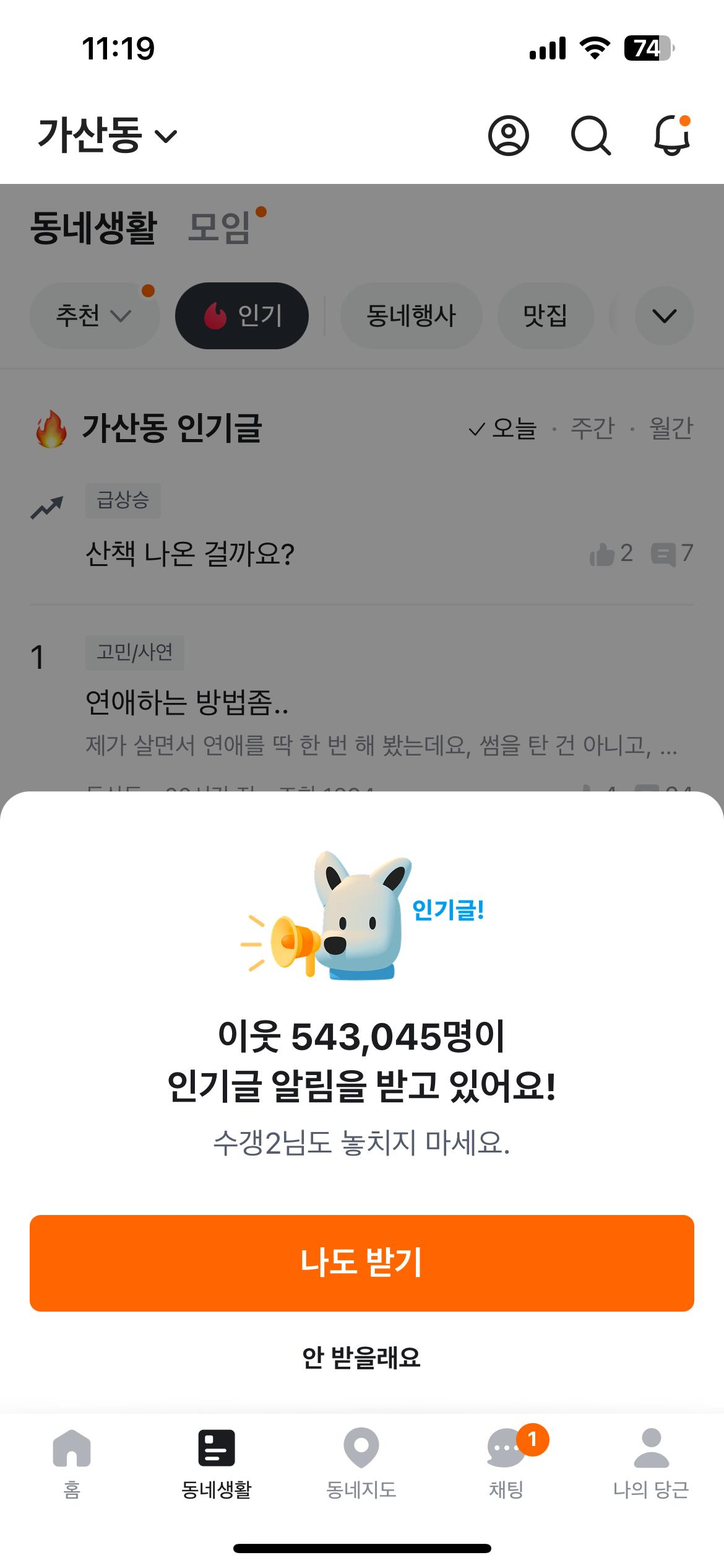button: (29, 1218, 697, 1307), (171, 272, 324, 355), (330, 268, 485, 343), (600, 1426, 710, 1521), (460, 1410, 559, 1515), (10, 279, 163, 343), (264, 1317, 431, 1375), (169, 1406, 262, 1505), (322, 1410, 408, 1513), (29, 1414, 109, 1507), (497, 279, 575, 341), (456, 403, 547, 454), (569, 116, 637, 175), (648, 403, 712, 456), (571, 405, 631, 456), (621, 287, 685, 334), (485, 114, 536, 171), (654, 114, 699, 165)
checkbox: (39, 107, 212, 169)
popup: (0, 793, 724, 1568)
